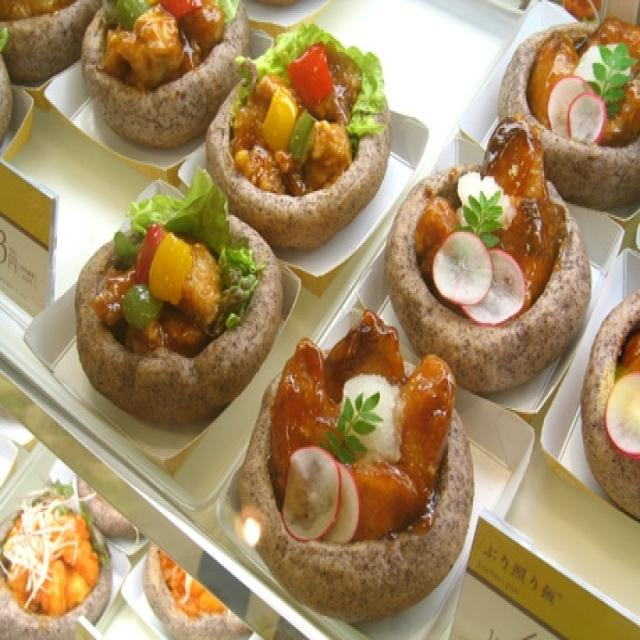三明治: (235, 299, 488, 629), (376, 102, 600, 397), (67, 165, 282, 430), (178, 17, 399, 262)
